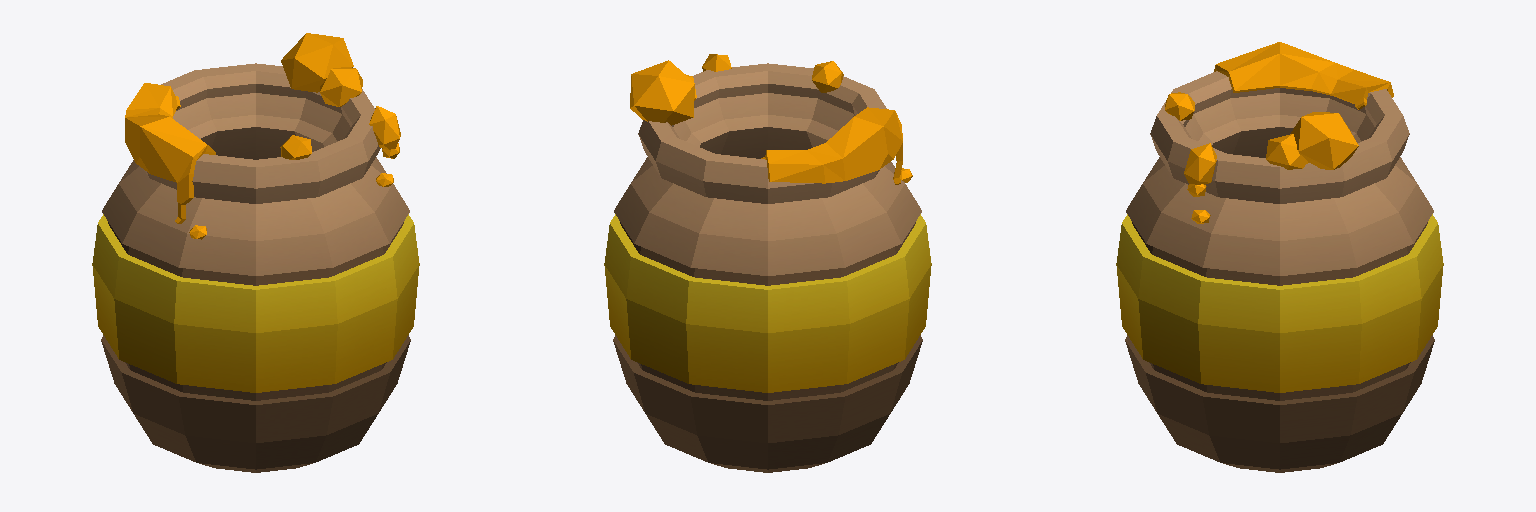
3 views of the same model, side by side, from view 1: azimuth 30°, elevation 25°; view 2: azimuth 150°, elevation 25°; view 3: azimuth 270°, elevation 25° (orthographic).
Parts seen in each view (by area): view 1: obj9; view 2: obj9; view 3: obj9.
Boxes of the visible parts, x1=… form: obj9: x1=92, y1=33, x2=419, y2=472; obj9: x1=604, y1=54, x2=931, y2=472; obj9: x1=1116, y1=42, x2=1443, y2=472.
Size of the model in its own units: 0.7639 by 0.9387 by 0.7639.
Materials: 2 (1 with a texture image).